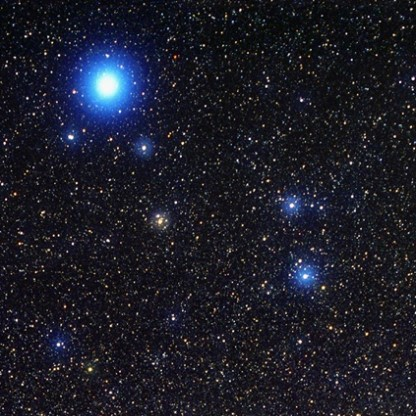Lyra: (69, 40, 154, 122), (290, 259, 322, 289), (129, 135, 157, 162), (149, 205, 169, 237), (60, 125, 80, 153), (283, 196, 300, 219)
